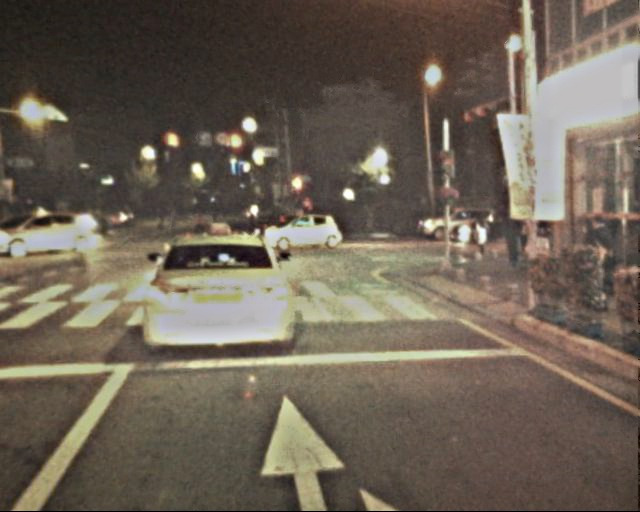person: (585, 213, 616, 306), (507, 213, 529, 273), (471, 220, 491, 271), (243, 206, 257, 239), (152, 204, 165, 236), (165, 203, 178, 235), (192, 205, 205, 236)
